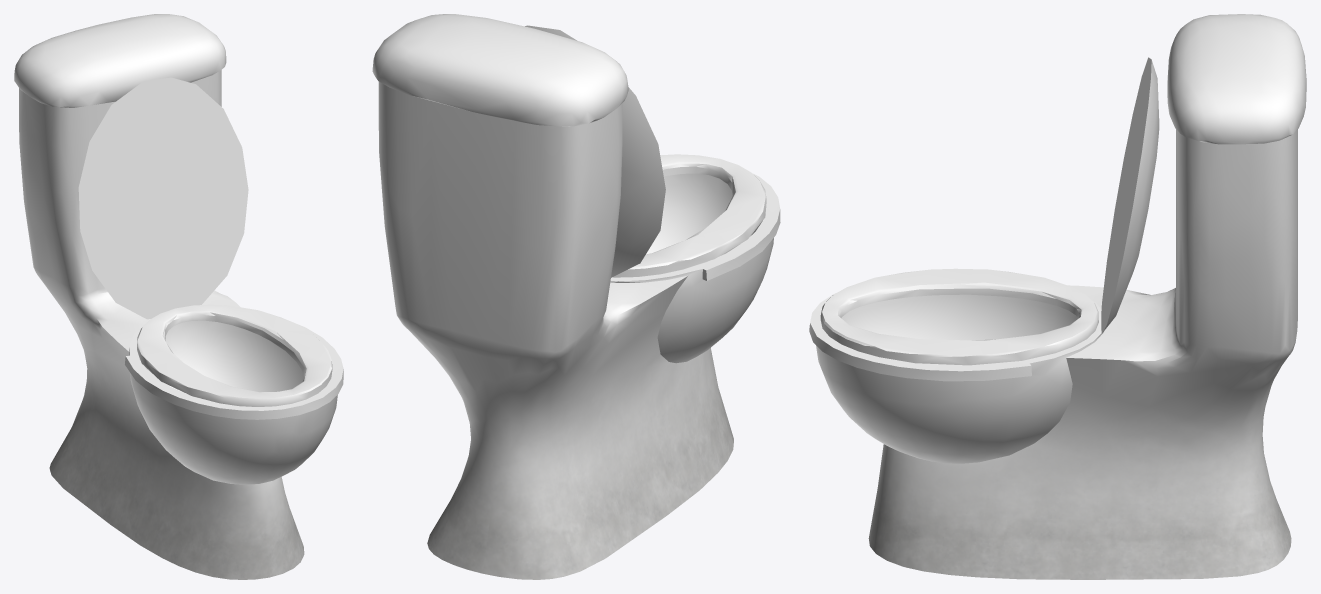
File: toilet.gltf
The picture shows the model from 3 angles, left to right: view 1: azimuth 30°, elevation 25°; view 2: azimuth 150°, elevation 25°; view 3: azimuth 270°, elevation 25°; orthographic projection. The views are drawn at different scales.
Parts seen in each view (by area): view 1: toiletlowpoly; view 2: toiletlowpoly; view 3: toiletlowpoly.
Part boxes in pixels (x1=…): toiletlowpoly: x1=14, y1=14, x2=343, y2=579; toiletlowpoly: x1=372, y1=14, x2=780, y2=579; toiletlowpoly: x1=809, y1=14, x2=1306, y2=579.
Bounding box in the file's own units: 0.8781 × 1.89 × 1.72.
1 material, 1 textured.
